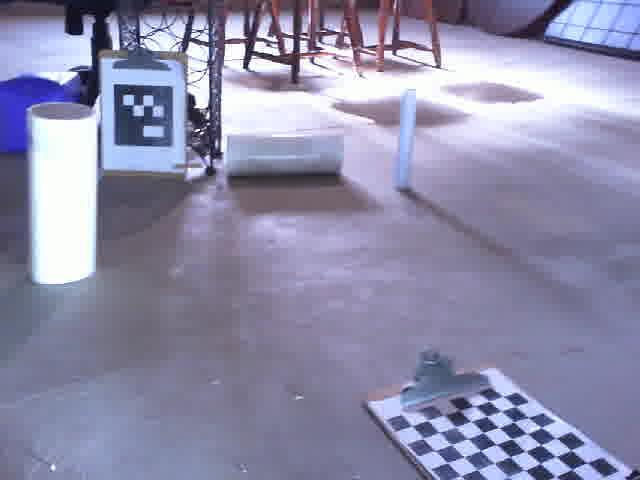coral: (24, 98, 105, 288), (221, 125, 349, 183)
